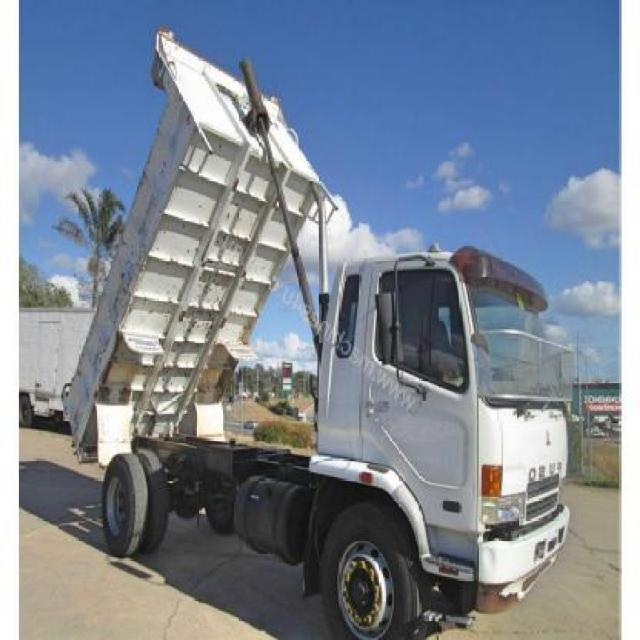truck: (62, 29, 574, 635)
